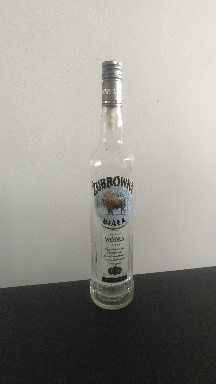butelka: (88, 57, 135, 312)
